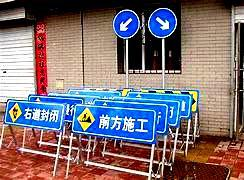sign: (75, 107, 155, 137), (5, 100, 62, 128)
